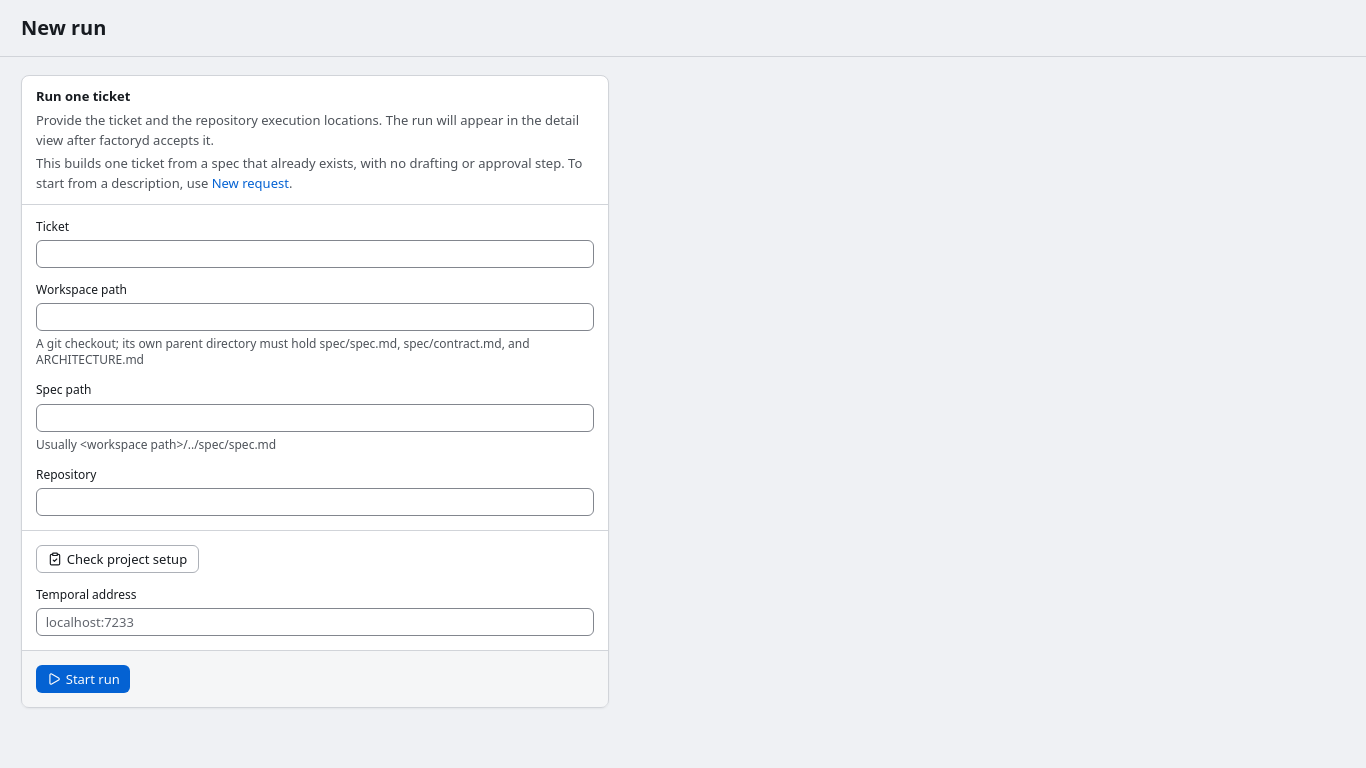
Test: new-run intake reports required fields without posting
Click the button "Start run". click: (83, 679)
box: [36, 665, 130, 693]
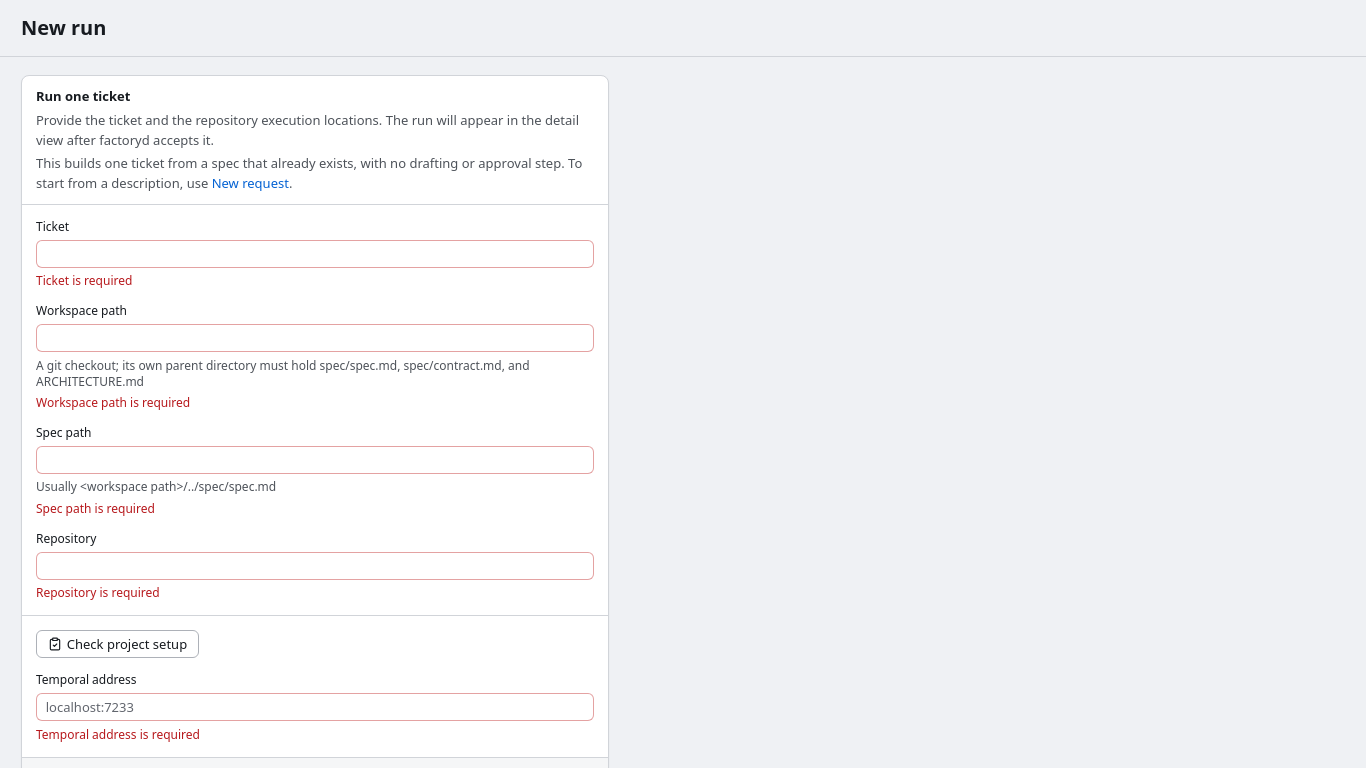
Now the text "Ticket is required" is shown, box [36, 272, 132, 289]
Now the text "Workspace path is required" is shown, box [36, 394, 190, 411]
Now the text "Spec path is required" is shown, box [36, 500, 155, 516]
